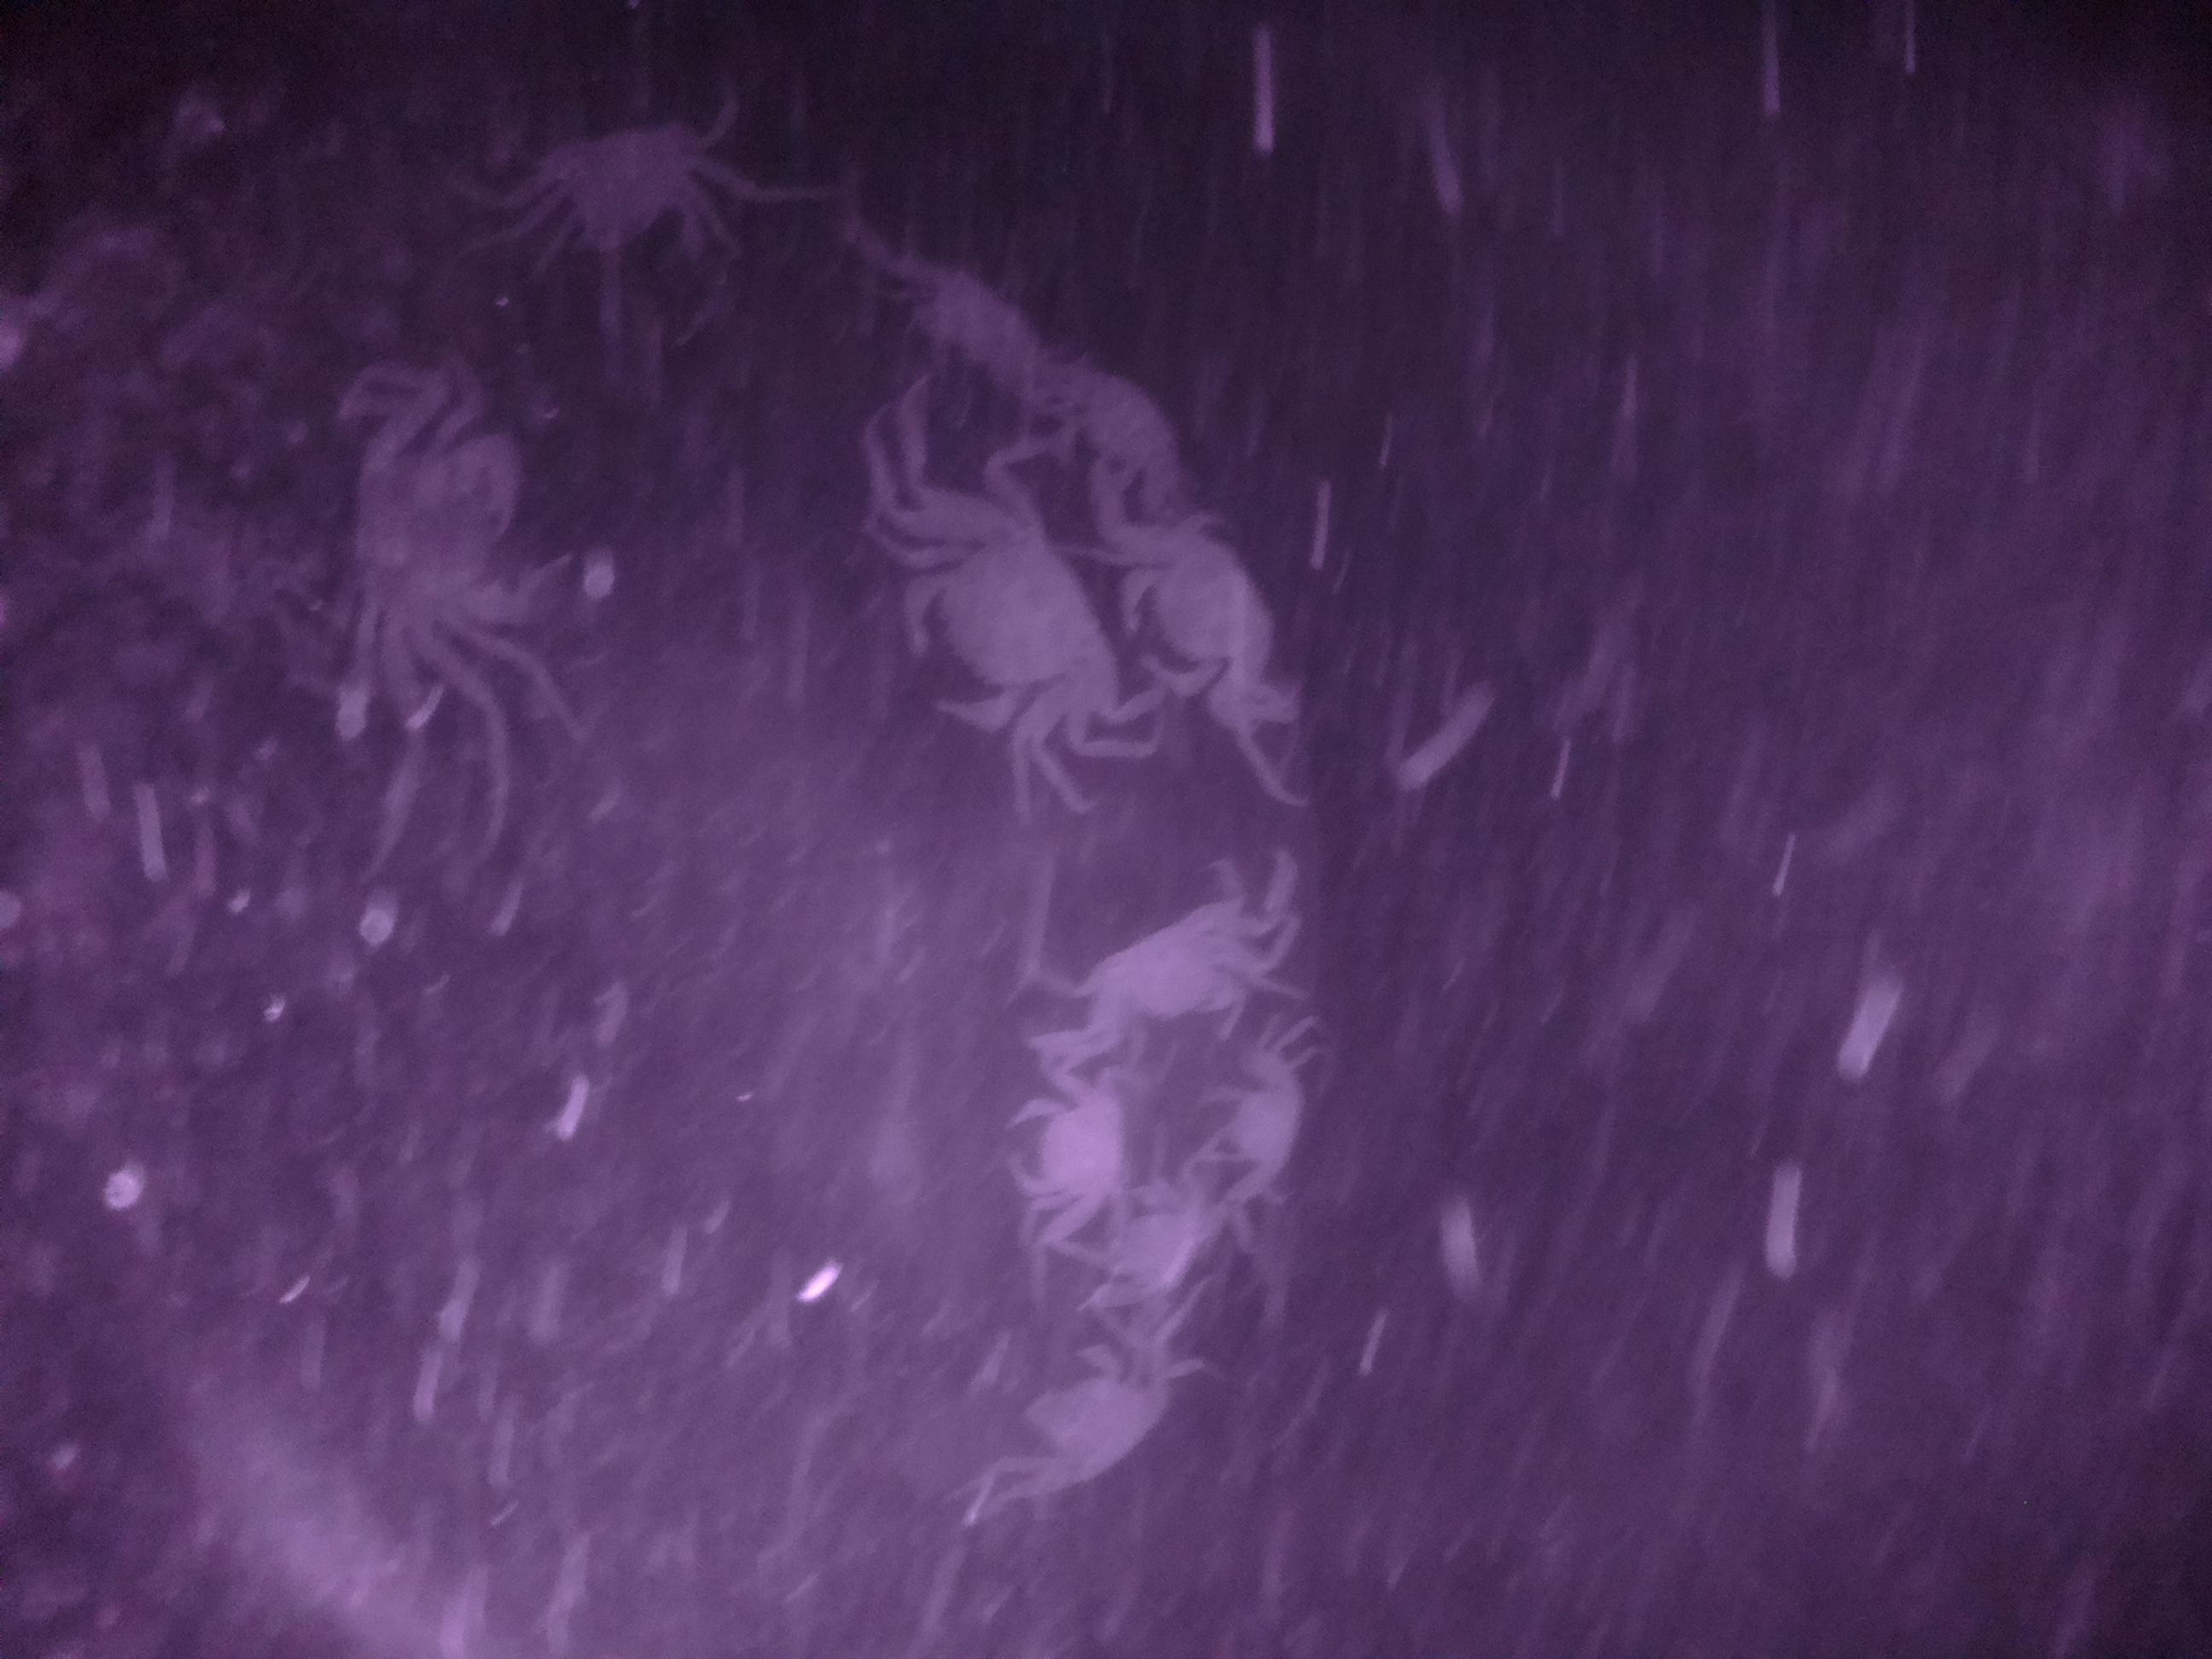Crab: (1090, 500, 1299, 735), (988, 1319, 1162, 1521), (989, 1056, 1137, 1258), (1205, 1042, 1341, 1243)
